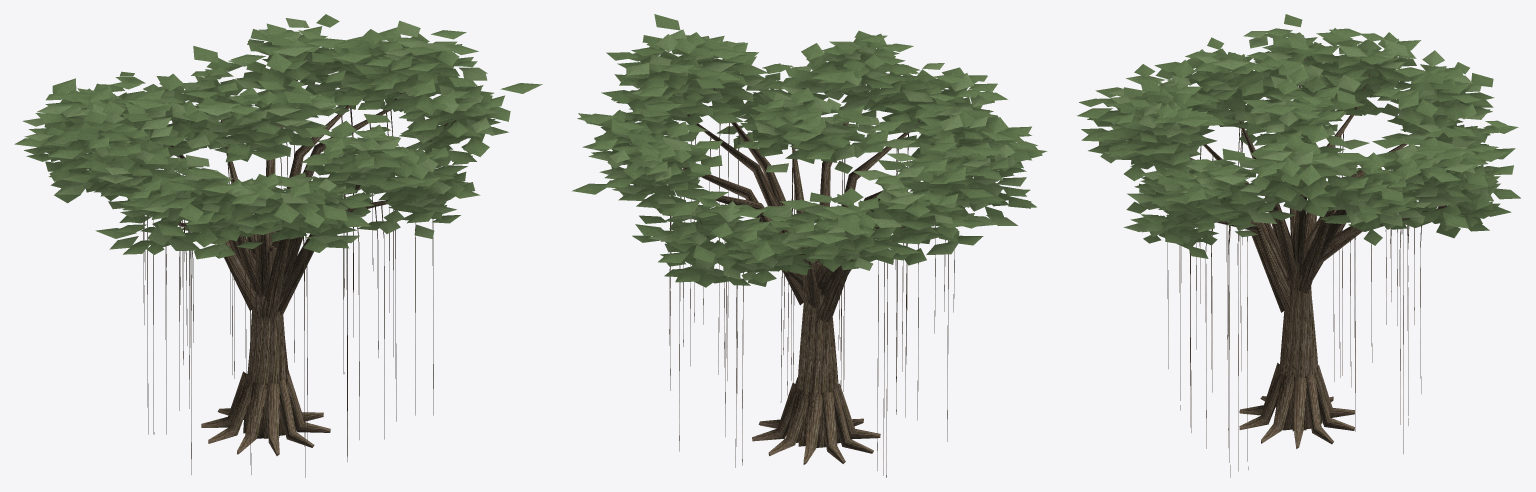
File: prop_banyan_tree_lod2.glb
The picture shows the model from 3 angles, left to right: view 1: azimuth 30°, elevation 25°; view 2: azimuth 150°, elevation 25°; view 3: azimuth 270°, elevation 25°; orthographic projection. The views are drawn at different scales.
Visible parts, largest first — view 1: prop_banyan_tree; view 2: prop_banyan_tree; view 3: prop_banyan_tree.
Boxes of the visible parts, x1,y1,x2,y2 form: prop_banyan_tree: (14, 14, 542, 477); prop_banyan_tree: (572, 14, 1047, 477); prop_banyan_tree: (1077, 14, 1520, 477).
Bounding box in the file's own units: 15 × 12 × 14.
Materials: 3 (3 with a texture image).
